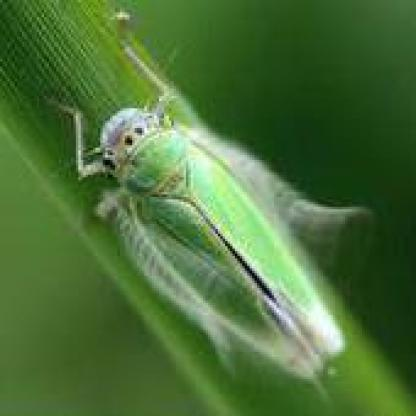Green-Leafhopper: (45, 13, 358, 384)
